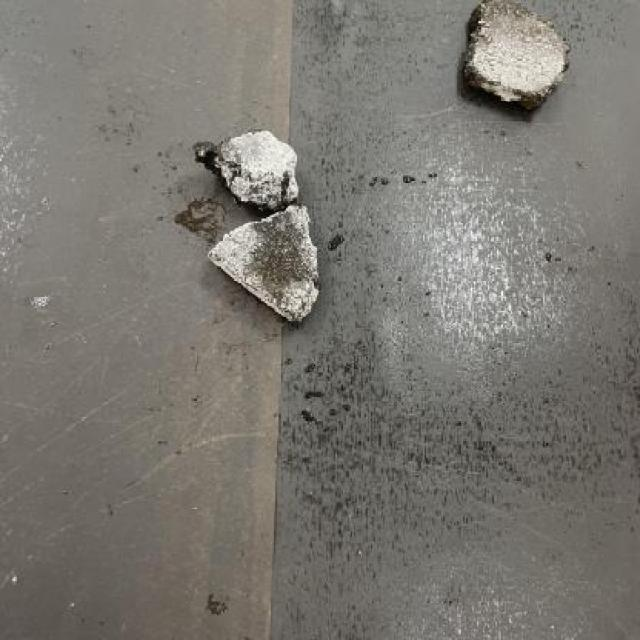Road Debris: (254, 214, 320, 306), (479, 8, 564, 48), (208, 134, 272, 164)
